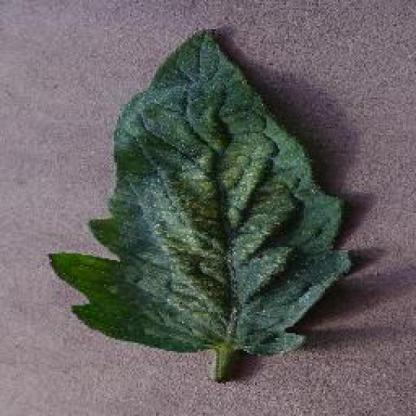Tomato_Spider_Mites: (52, 26, 350, 354)
